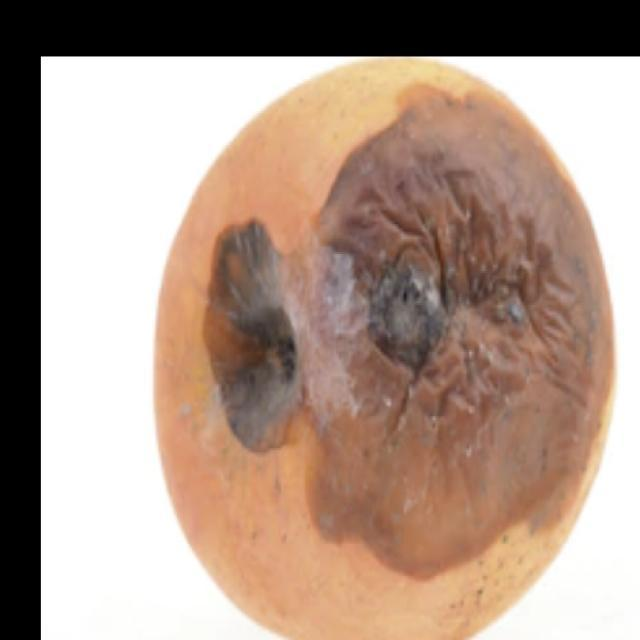Rotten: (142, 54, 616, 640)
